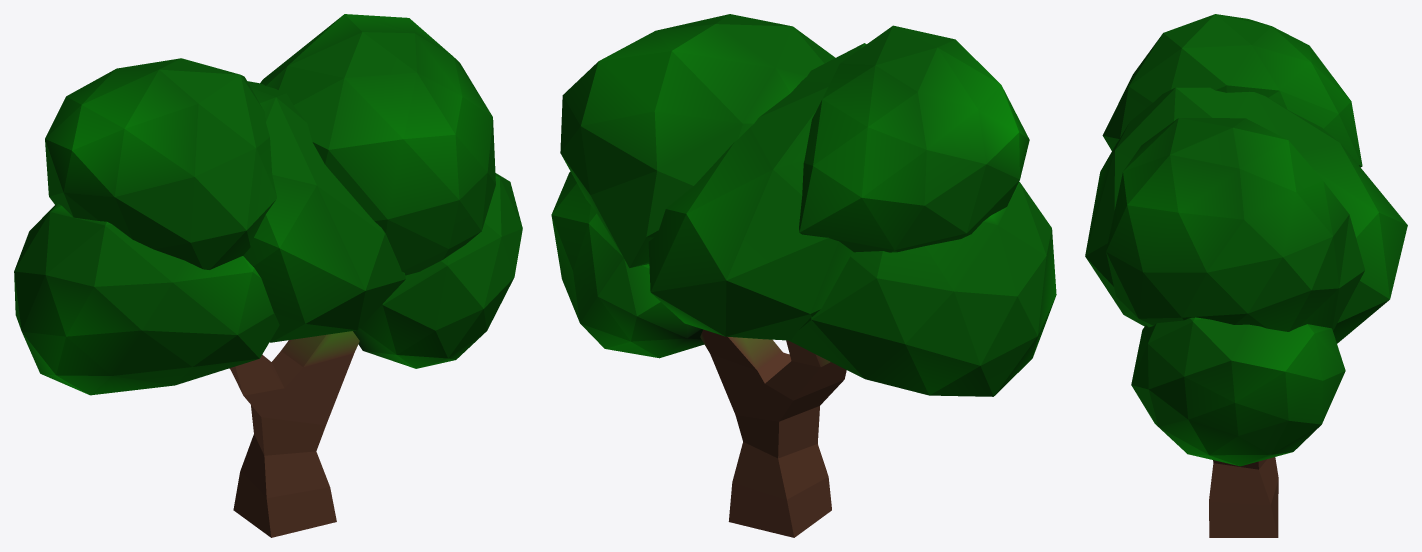
Rendered from oak.obj.
The picture shows the model from 3 angles, left to right: view 1: azimuth 30°, elevation 25°; view 2: azimuth 150°, elevation 25°; view 3: azimuth 270°, elevation 25°; orthographic projection. The views are drawn at different scales.
Visible parts, largest first — view 1: OakTree1; view 2: OakTree1; view 3: OakTree1.
Boxes of the visible parts, x1,y1,x2,y2 form: OakTree1: (14,14,522,537); OakTree1: (551,14,1056,537); OakTree1: (1085,14,1407,537).
Bounding box in the file's own units: 9.76 × 9.59 × 6.28.
